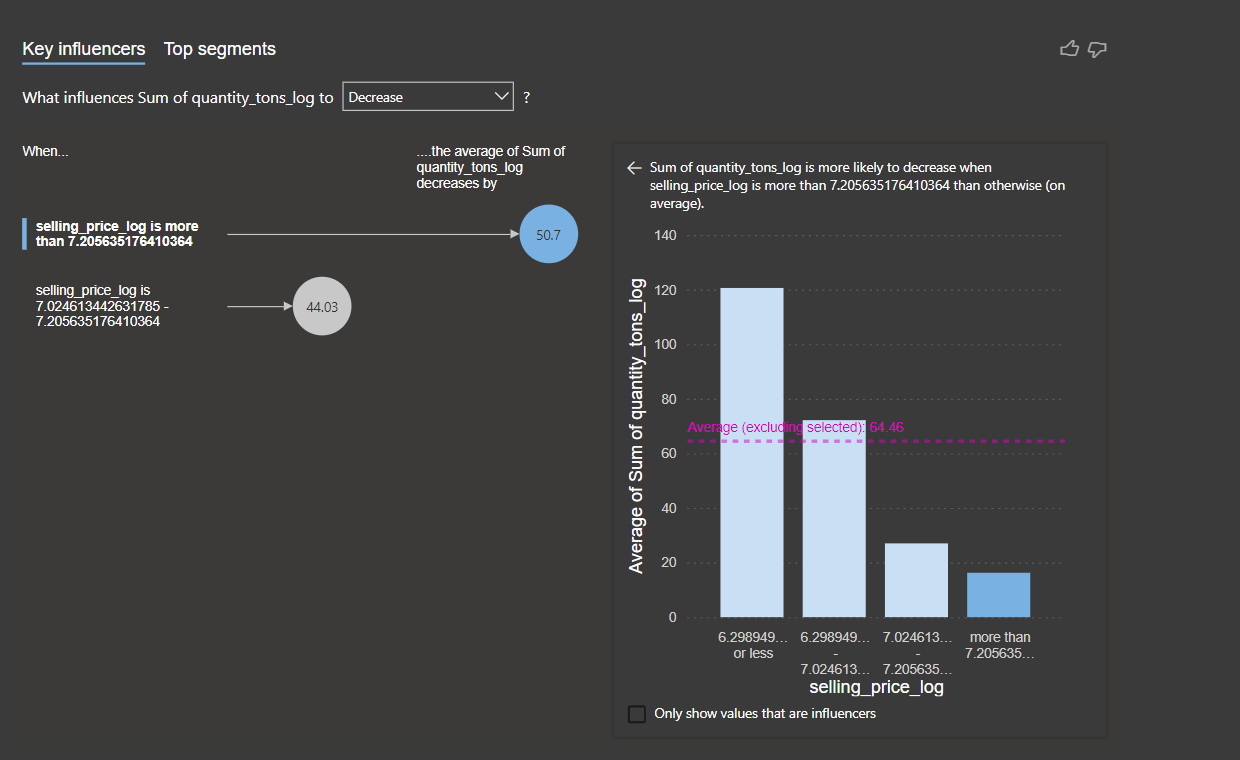

The dashboard page shown, as its layout file describes it:
{"tool":"powerbi","page":{"name":"Key_INF","canvas":[1280,720],"ordinal":1},"visuals":[{"type":"keyDriversVisual","fields":{"Target":["Industrial_Copper_Colab.quantity_tons_log"],"ExplainBy":["Industrial_Copper_Colab.selling_price_log"]},"box":[24.3,38.9,995,645.8],"z":0}]}

Visuals, with their boxes on the page's 1280x720 design canvas (x1, y1, x2, y2). These are canvas units, not pixel positions in the 1240x760 screenshot, which may show the page scaled, cropped or inside an application window:
keyDriversVisual - Industrial_Copper_Colab.quantity_tons_log x Industrial_Copper_Colab.selling_price_log: box=[24, 39, 1019, 685]
